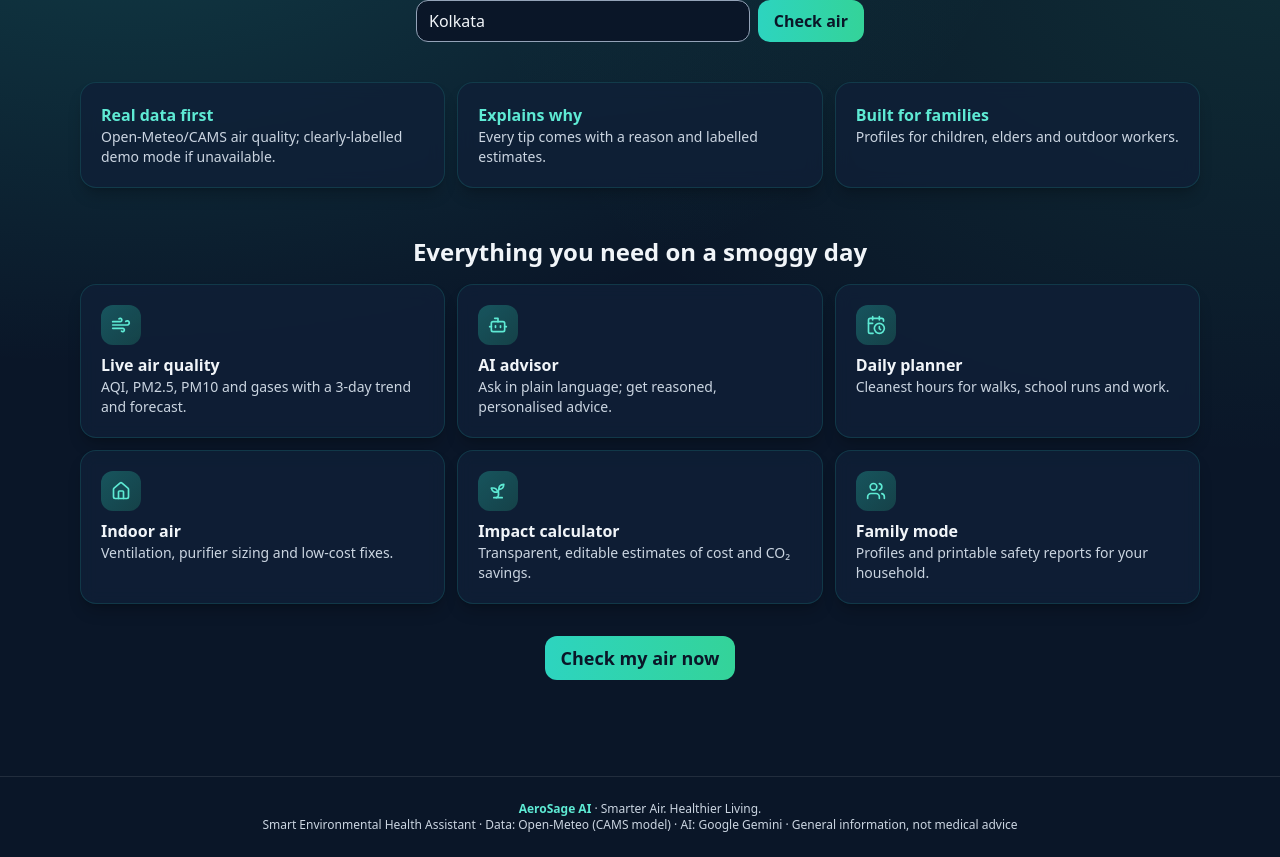
Scenario: loading and error states › does not offer demo mode for an unknown city
(page scrolled)
Click the button "Check my air now" at (640, 658), box top-left (545, 636), bottom-right (736, 680)
(page scrolled)
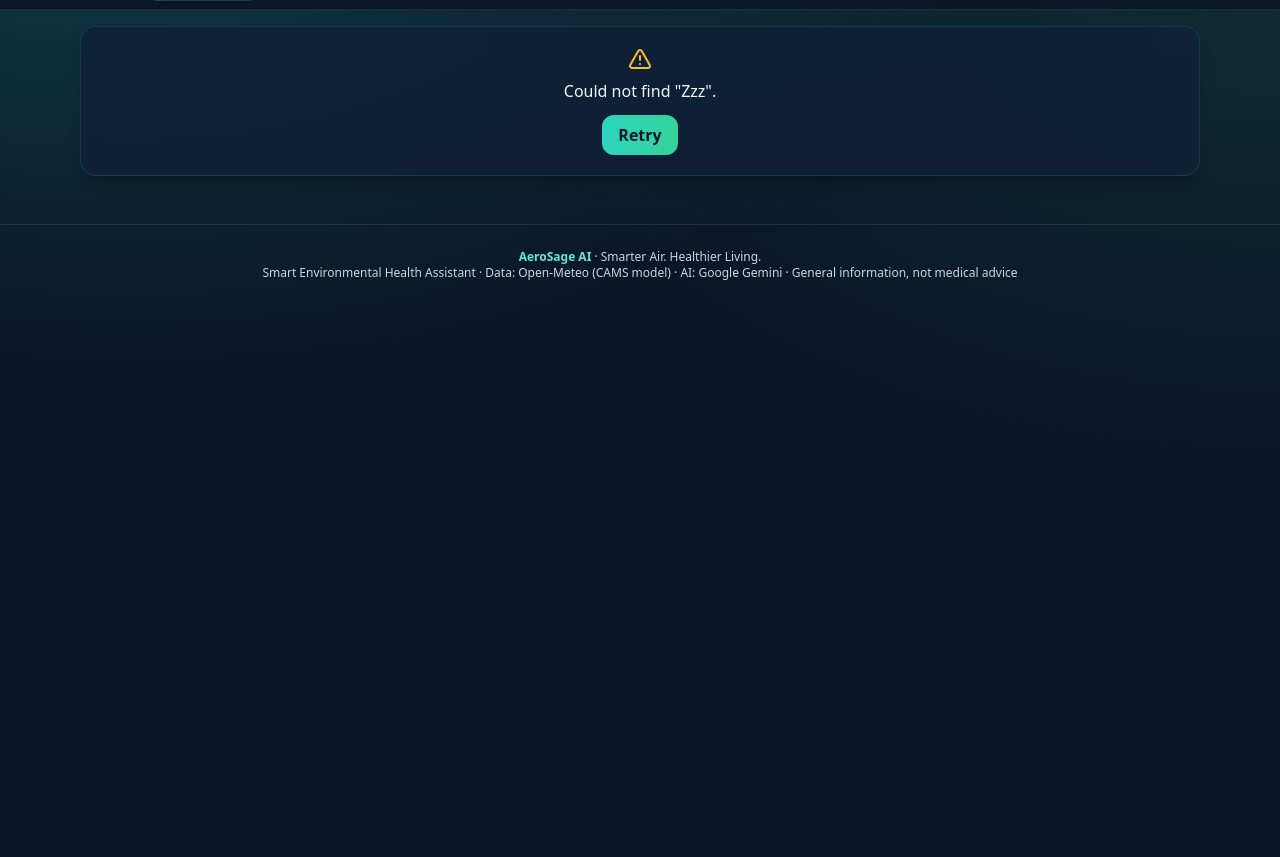
Expected: the message shows "Could not find \"Zzz\"", top-left (564, 80), bottom-right (716, 102)
